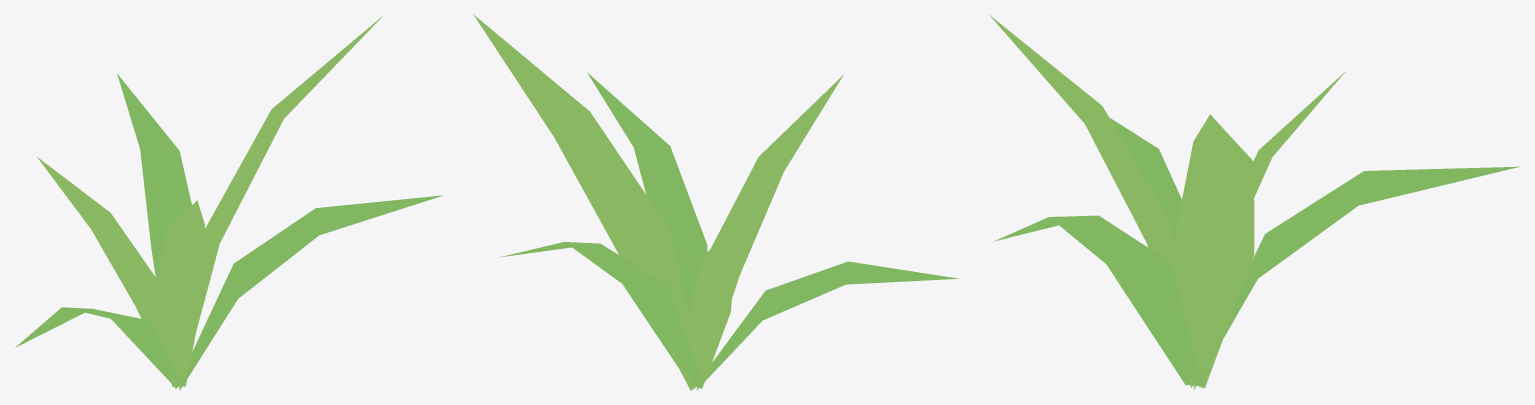
The model's file is Plant_e_OneS_06.fbx.
The picture shows the model from 3 angles, left to right: view 1: azimuth 30°, elevation 25°; view 2: azimuth 150°, elevation 25°; view 3: azimuth 270°, elevation 25°; orthographic projection. The views are drawn at different scales.
Parts seen in each view (by area): view 1: Plant_e_OneS_06; view 2: Plant_e_OneS_06; view 3: Plant_e_OneS_06.
Boxes of the visible parts, <box> form: Plant_e_OneS_06: <box>15,15,443,390</box>; Plant_e_OneS_06: <box>473,14,959,390</box>; Plant_e_OneS_06: <box>988,14,1519,390</box>.
Size of the model in its own units: 0.749 by 0.538 by 0.6407.
